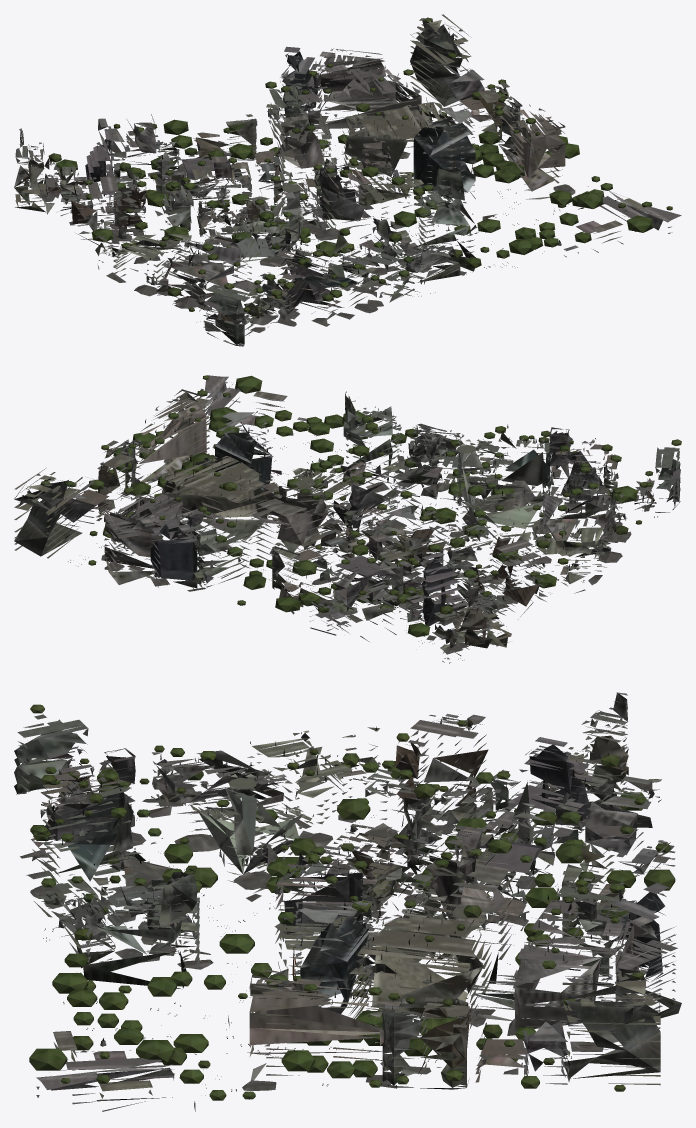
Rendered from far.glb.
3 renders of one model, top to bottom at view 1: azimuth 30°, elevation 25°; view 2: azimuth 150°, elevation 25°; view 3: azimuth 270°, elevation 25°, orthographic. The views are drawn at different scales.
Parts seen in each view (by area): view 1: far; view 2: far; view 3: far.
Boxes of the visible parts, <box> form: far: <box>14,14,681,346</box>; far: <box>14,375,681,663</box>; far: <box>14,692,681,1111</box>.
Size of the model in its own units: 321 by 55.6 by 268.
1 material, 1 textured.
